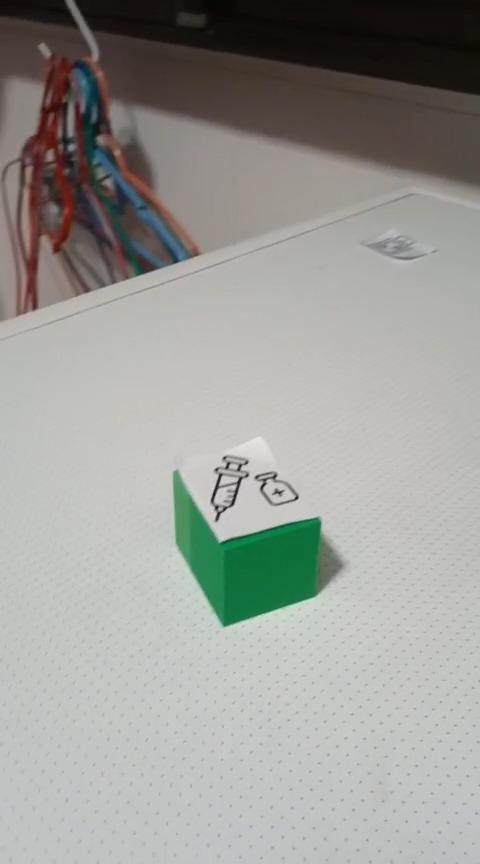antiseptic cream: (170, 434, 323, 627)
